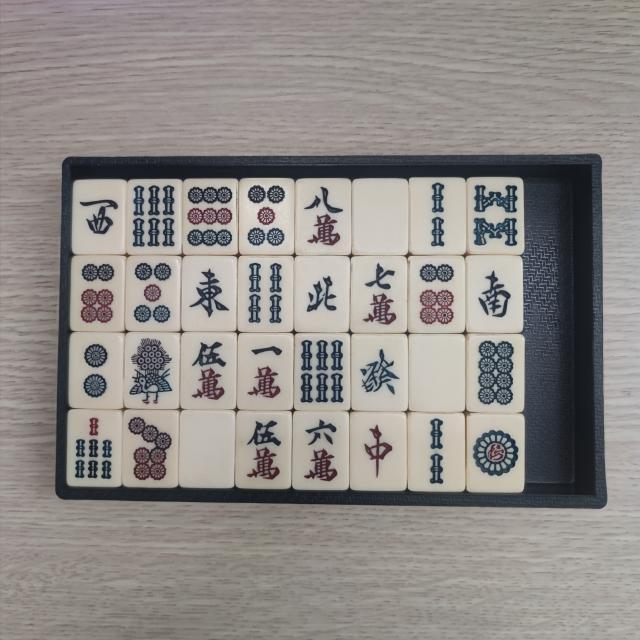hdg: (358, 338, 403, 406)
hdr: (357, 418, 400, 487)
hdw: (415, 338, 461, 406), (356, 184, 401, 248), (187, 416, 230, 482)
hwe: (187, 262, 233, 326)
hwn: (298, 262, 342, 328)
hws: (472, 262, 516, 329)
hww: (77, 184, 121, 248)
sb1: (128, 336, 176, 406)
sb2: (412, 416, 460, 488), (414, 182, 461, 252)
sb4: (244, 260, 290, 328)
sb6: (301, 338, 348, 406), (130, 184, 176, 250)
sb7: (72, 413, 118, 482)
sb8: (472, 180, 520, 250)
sc1: (242, 340, 286, 406)
sc5: (240, 416, 286, 484), (186, 337, 232, 404)
sc6: (298, 416, 342, 484)
sc7: (357, 260, 402, 328)
sc8: (304, 183, 349, 250)
sd1: (472, 420, 522, 488)
sd2: (74, 336, 119, 404)
sd5: (130, 260, 176, 327), (246, 182, 290, 250)
sd6: (414, 261, 459, 328), (77, 260, 121, 326)
sd7: (128, 416, 176, 484)
sd8: (472, 340, 520, 408)
sd9: (186, 186, 235, 252)
